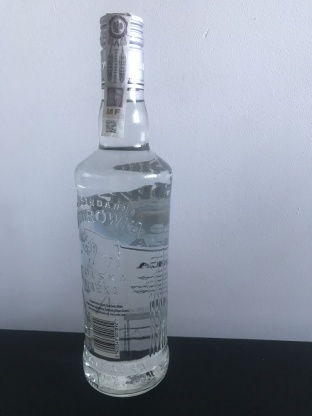nakretka: (97, 9, 147, 93)
